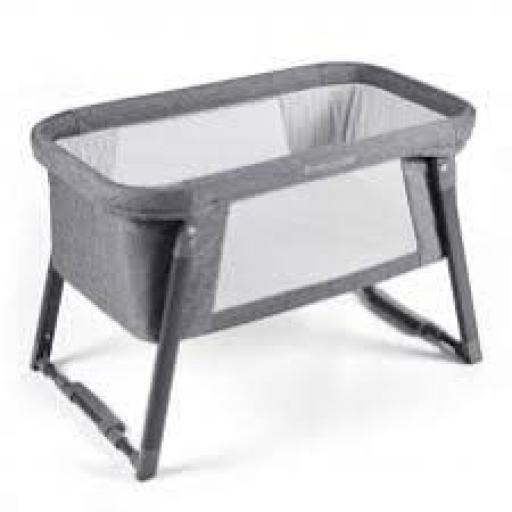crib: (28, 60, 483, 479)
